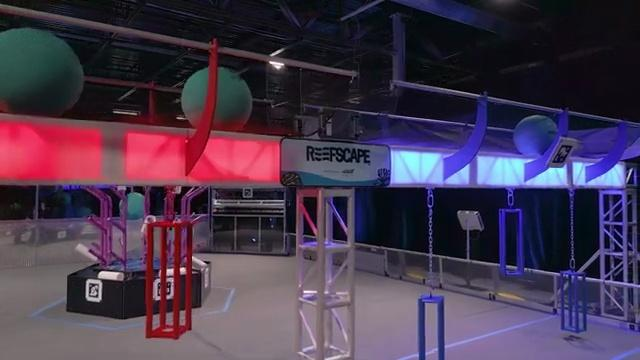ALGAE: (0, 26, 84, 116), (181, 66, 254, 135), (513, 114, 560, 160)
